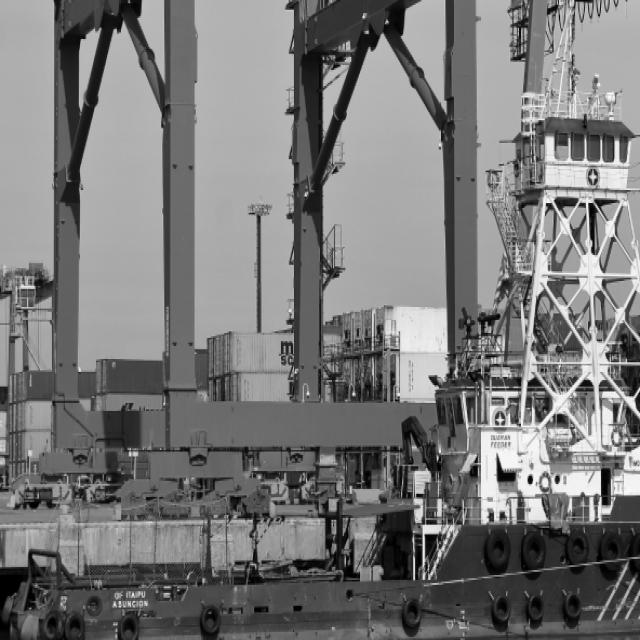tugboat: (1, 72, 640, 640)
